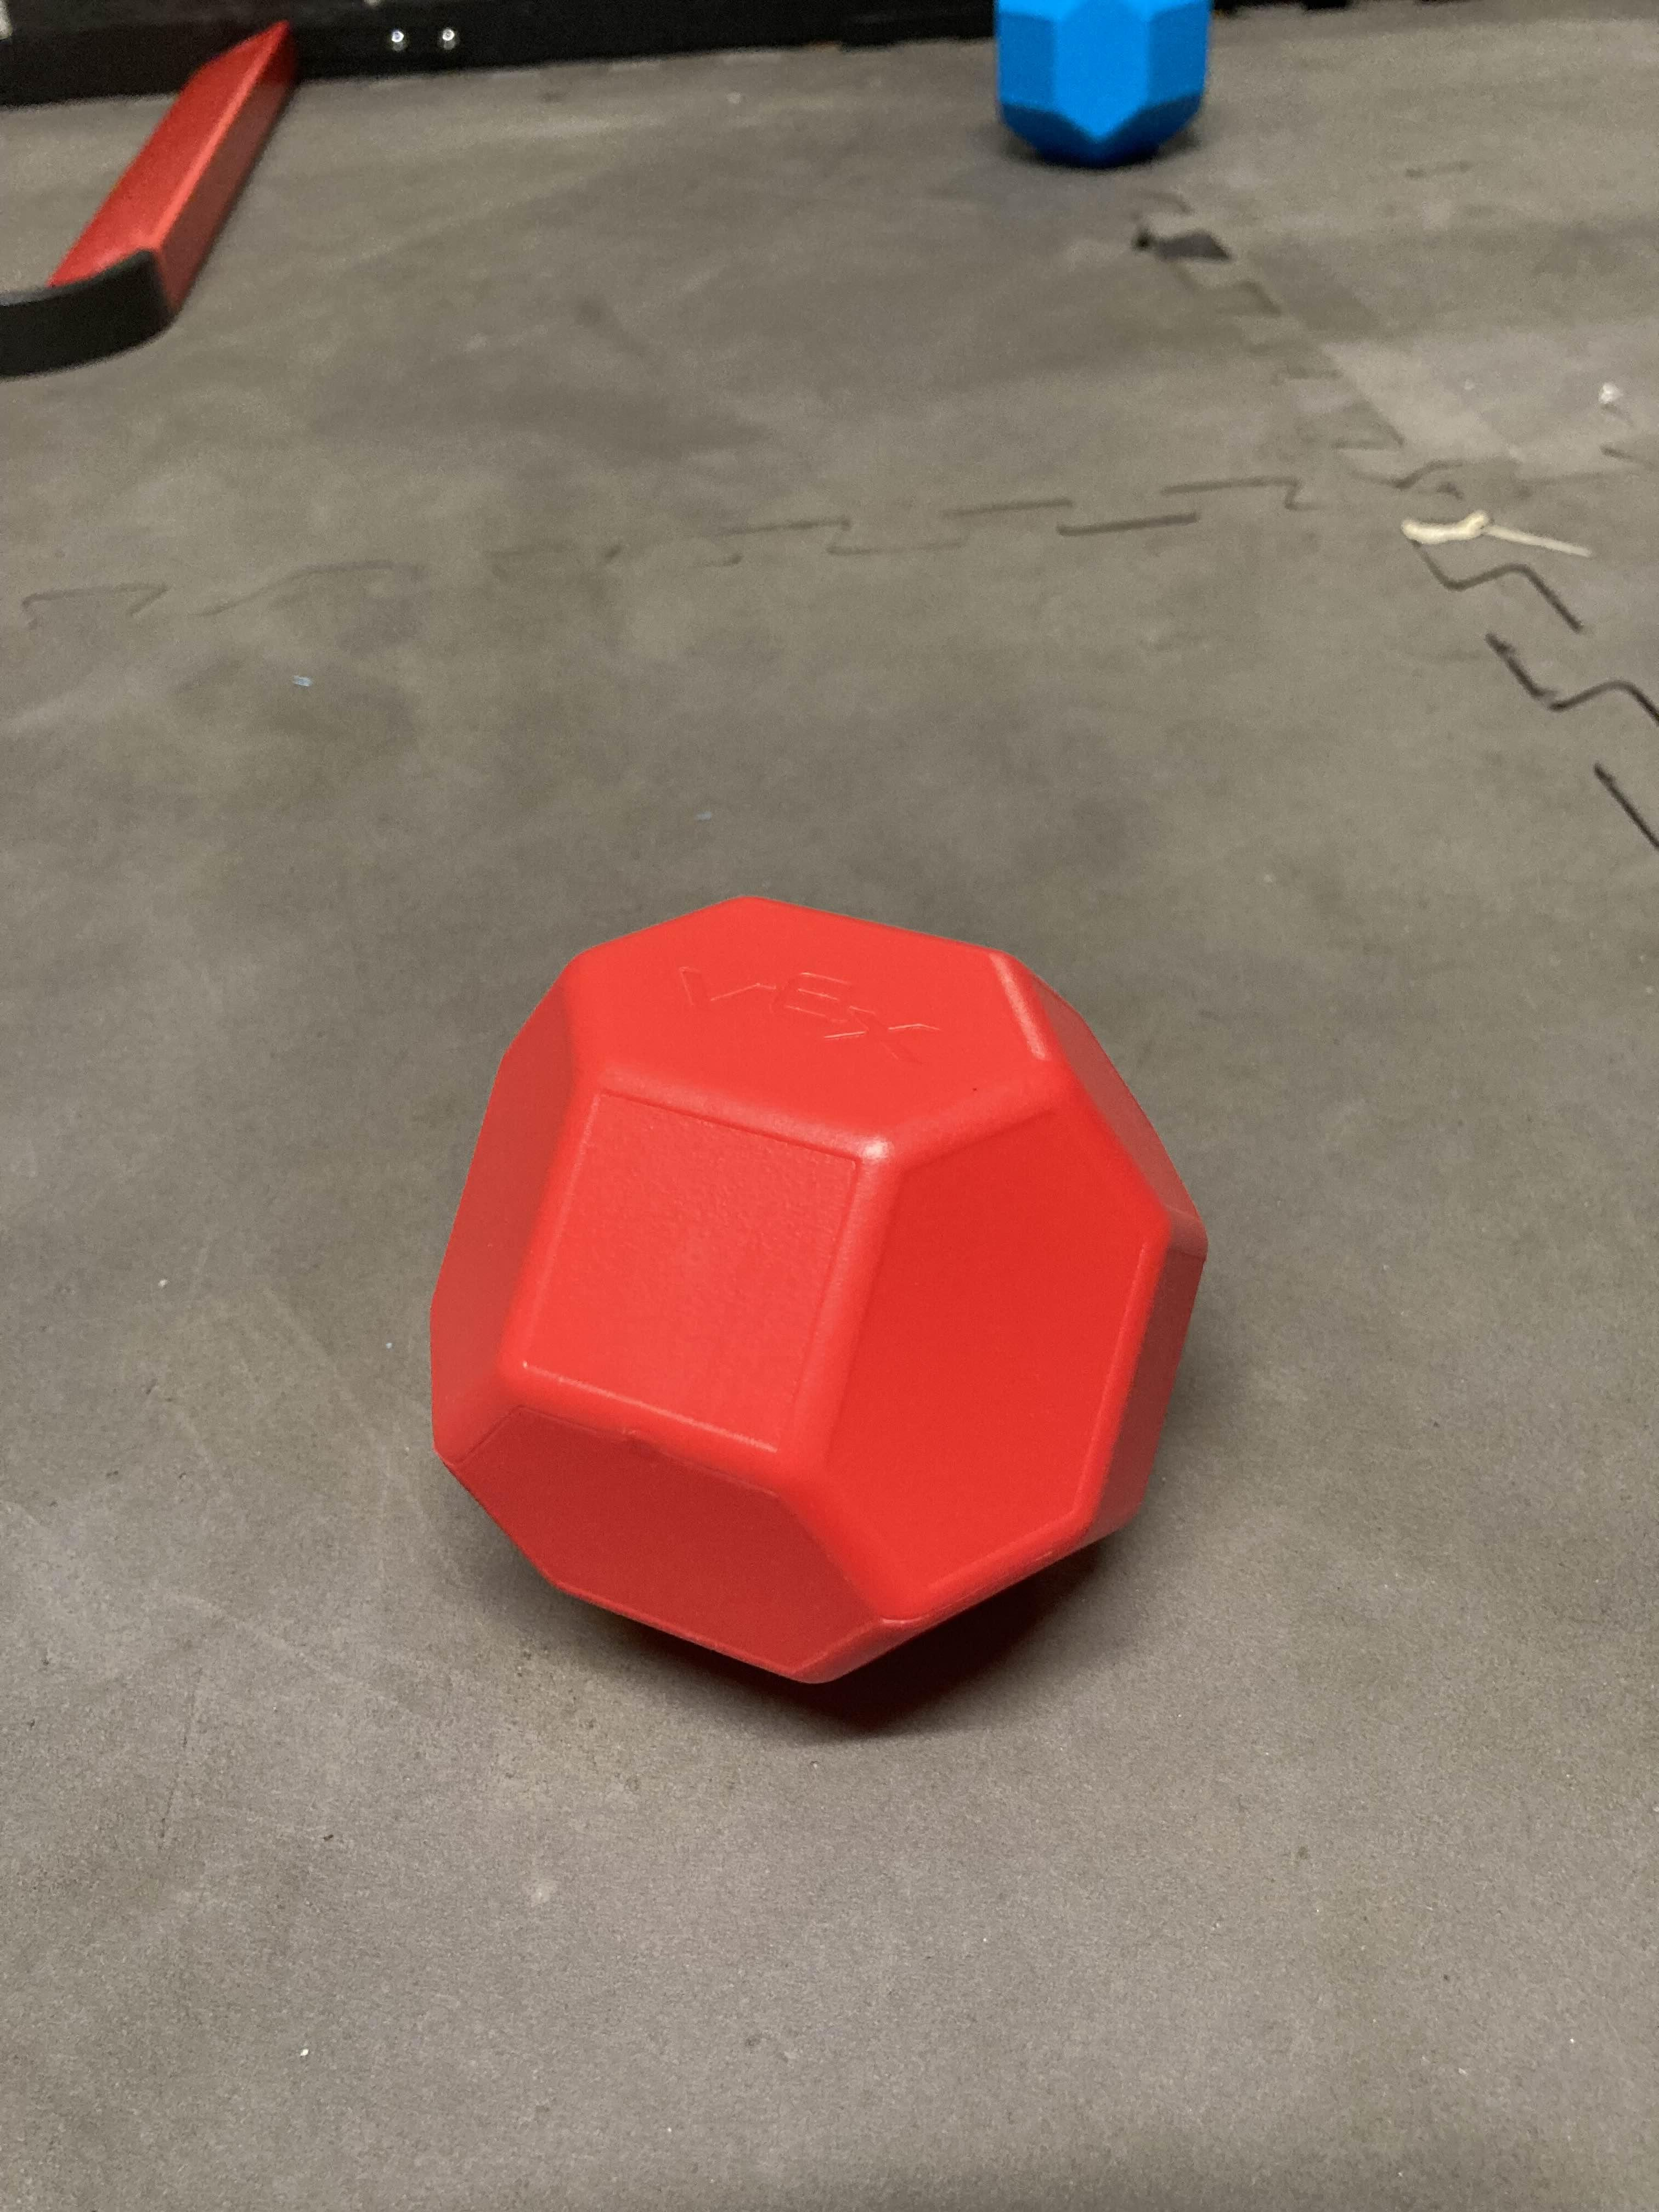Vex-Pieces-BLUE: (995, 0, 1215, 172)
Vex-Pieces-RED: (427, 902, 1209, 1695)
